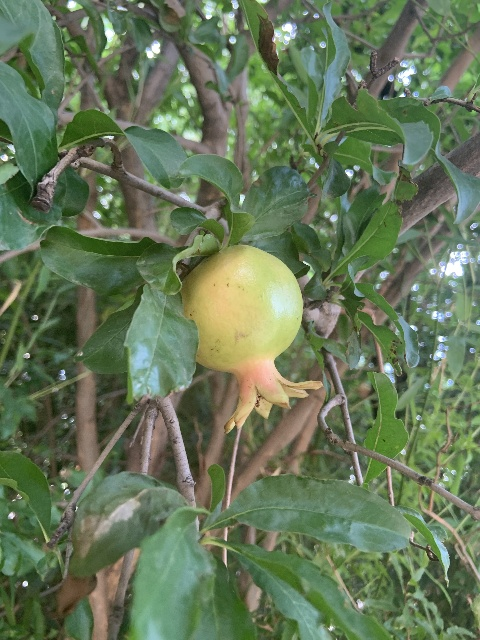mid-growth: (180, 244, 323, 433)
